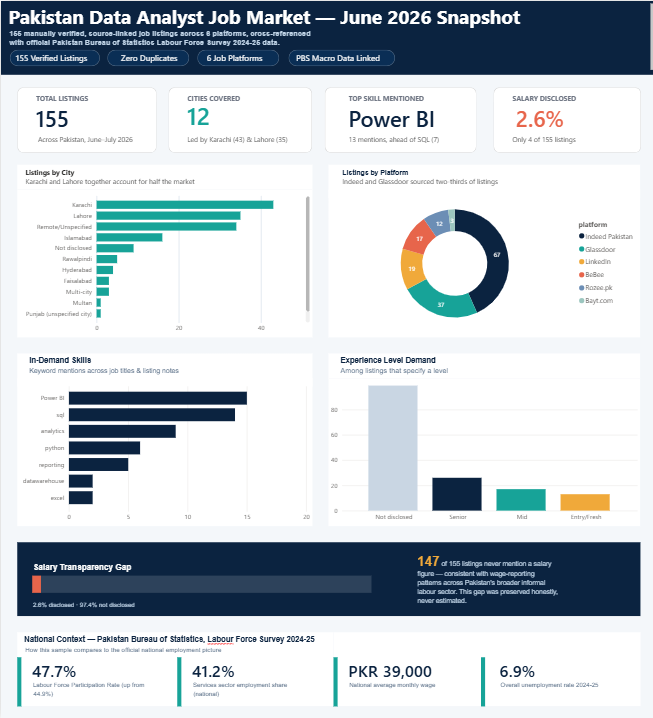

The dashboard page shown, as its layout file describes it:
{"tool":"powerbi","page":{"name":"Page 1","canvas":[1280,1400],"ordinal":0},"visuals":[{"type":"shape","box":[32,168,272,128],"z":0},{"type":"textbox","box":[32,1056,1216,144],"z":0},{"type":"textbox","box":[0,0,1280,144],"z":1000,"group":"g8"},{"type":"textbox","box":[808,1056,288,144],"z":1000,"group":"g7"},{"type":"shape","box":[16,96,176,32],"z":2000,"group":"g8"},{"type":"barChart","fields":{"Y":["City-wise Job Listing Distribution (Summary_City).Disclosed Pct Value","City-wise Job Listing Distribution (Summary_City).Disclosed Pct"]},"box":[56,1064,672,144],"z":2000,"group":"g7"},{"type":"shape","box":[208,96,160,32],"z":3000,"group":"g8"},{"type":"cardVisual","fields":{"Data":["City-wise Job Listing Distribution (Summary_City).LFPR Text"]},"box":[32,1232,312,144],"z":3000},{"type":"shape","box":[384,96,160,32],"z":4000,"group":"g8"},{"type":"cardVisual","fields":{"Data":["pk_labour_force_macro_stats_202.Services Text"]},"box":[344,1232,304,144],"z":4000,"group":"g6"},{"type":"shape","box":[560,96,208,32],"z":5000,"group":"g8"},{"type":"cardVisual","fields":{"Data":["pk_labour_force_macro_stats_202.Wage Text"]},"box":[648,1232,296,144],"z":5000,"group":"g6"},{"type":"textbox","box":[0,96,1280,32],"z":6000,"group":"g8"},{"type":"cardVisual","fields":{"Data":["pk_labour_force_macro_stats_202.Unemployment Text"]},"box":[944,1232,304,144],"z":6000,"group":"g6"},{"type":"shape","box":[632,168,296,128],"z":7000},{"type":"textbox","box":[32,1320,256,56],"z":7000,"group":"g6"},{"type":"shape","box":[960,168,288,128],"z":8000},{"type":"textbox","box":[944,1320,256,56],"z":8000,"group":"g6"},{"type":"shape","box":[328,168,280,128],"z":9000},{"type":"textbox","box":[64,176,128,32],"z":9000,"group":"g9"},{"type":"textbox","box":[648,1320,256,56],"z":9000,"group":"g6"},{"type":"textbox","box":[672,176,184,40],"z":10000},{"type":"cardVisual","fields":{"Data":["City-wise Job Listing Distribution (Summary_City).Total Listings"]},"box":[40,184,176,88],"z":10000,"group":"g9"},{"type":"textbox","box":[344,1320,256,56],"z":10000,"group":"g6"},{"type":"cardVisual","fields":{"Data":["City-wise Job Listing Distribution (Summary_City).Top Skill Name"]},"box":[648,184,248,88],"z":11000},{"type":"textbox","box":[56,256,208,40],"z":11000,"group":"g9"},{"type":"textbox","box":[32,1232,1216,48],"z":11000,"group":"g6"},{"type":"textbox","box":[672,256,208,40],"z":12000},{"type":"shape","box":[32,1280,8,96],"z":12000},{"type":"textbox","box":[360,176,144,32],"z":13000,"group":"g1"},{"type":"clusteredBarChart","fields":{"Y":["Sum(SkillsUnpivoted.Mentioned)"],"Category":["SkillsUnpivoted.Skill"]},"box":[32,736,576,288],"z":13000},{"type":"shape","box":[936,1280,8,96],"z":13000,"group":"g6"},{"type":"cardVisual","fields":{"Data":["City-wise Job Listing Distribution (Summary_City).Cities Covered"]},"box":[336,184,184,80],"z":14000,"group":"g1"},{"type":"textbox","box":[32,688,576,64],"z":14000},{"type":"shape","box":[648,1280,8,96],"z":14000,"group":"g6"},{"type":"group","id":"g1","title":"Group 2","box":[40,176,552,120],"z":15000},{"type":"textbox","box":[360,256,232,32],"z":15000,"group":"g1"},{"type":"shape","box":[344,1280,8,96],"z":15000,"group":"g6"},{"type":"group","id":"g2","title":"Group 4","box":[976,176,216,120],"z":16000},{"type":"cardVisual","fields":{"Data":["City-wise Job Listing Distribution (Summary_City).Salary Disclosed %"]},"box":[976,184,168,88],"z":17000,"group":"g2"},{"type":"group","id":"g3","title":"Group 3","box":[32,320,576,336],"z":17000},{"type":"textbox","box":[992,256,160,40],"z":18000,"group":"g2"},{"type":"group","id":"g4","title":"Group 5","box":[640,320,608,336],"z":18000},{"type":"textbox","box":[992,176,200,56],"z":19000,"group":"g2"},{"type":"group","id":"g5","title":"Group 6","box":[640,688,608,336],"z":19000},{"type":"group","id":"g6","title":"Group 9","box":[32,1232,1216,144],"z":20001},{"type":"group","id":"g7","title":"Group 7","box":[56,1056,1040,152],"z":20002},{"type":"group","id":"g8","title":"Group 8","box":[0,0,1280,144],"z":20003},{"type":"clusteredBarChart","title":"Listings by City","fields":{"Category":["Cleaned_Data.city_clean"],"Y":["CountNonNull(Cleaned_Data.job_title)"]},"box":[32,368,576,288],"z":22000,"group":"g3"},{"type":"textbox","box":[32,320,576,48],"z":23000,"group":"g3"},{"type":"donutChart","fields":{"Category":["Cleaned_Data.platform"],"Y":["CountNonNull(Cleaned_Data.job_title)"]},"box":[640,368,608,288],"z":24000,"group":"g4"},{"type":"textbox","box":[640,320,608,64],"z":25000,"group":"g4"},{"type":"clusteredColumnChart","fields":{"Category":["Cleaned_Data.experience_level"],"Y":["CountNonNull(Cleaned_Data.job_title)"]},"box":[640,736,608,288],"z":28000,"group":"g5"},{"type":"textbox","box":[640,688,608,48],"z":29000,"group":"g5"},{"type":"group","id":"g9","title":"Group 1","box":[40,176,224,120],"z":41505,"group":"g1"}]}

Visuals, with their boxes in screenshot pixels (x1, y1, x2, y2), scaled from the page's 1280x1400 canvas onto the 653x718 screenshot:
shape: bbox=[16, 86, 155, 152]
textbox: bbox=[16, 542, 637, 615]
textbox: bbox=[0, 0, 652, 74]
textbox: bbox=[412, 542, 559, 615]
shape: bbox=[8, 49, 98, 66]
barChart - City-wise Job Listing Distribution (Summary_City).Disclosed Pct Value x City-wise Job Listing Distribution (Summary_City).Disclosed Pct: bbox=[29, 546, 371, 620]
shape: bbox=[106, 49, 188, 66]
cardVisual - City-wise Job Listing Distribution (Summary_City).LFPR Text: bbox=[16, 632, 175, 706]
shape: bbox=[196, 49, 278, 66]
cardVisual - pk_labour_force_macro_stats_202.Services Text: bbox=[175, 632, 331, 706]
shape: bbox=[286, 49, 392, 66]
cardVisual - pk_labour_force_macro_stats_202.Wage Text: bbox=[331, 632, 482, 706]
textbox: bbox=[0, 49, 652, 66]
cardVisual - pk_labour_force_macro_stats_202.Unemployment Text: bbox=[482, 632, 637, 706]
shape: bbox=[322, 86, 473, 152]
textbox: bbox=[16, 677, 147, 706]
shape: bbox=[490, 86, 637, 152]
textbox: bbox=[482, 677, 612, 706]
shape: bbox=[167, 86, 310, 152]
textbox: bbox=[33, 90, 98, 107]
textbox: bbox=[331, 677, 461, 706]
textbox: bbox=[343, 90, 437, 111]
cardVisual - City-wise Job Listing Distribution (Summary_City).Total Listings: bbox=[20, 94, 110, 139]
textbox: bbox=[175, 677, 306, 706]
cardVisual - City-wise Job Listing Distribution (Summary_City).Top Skill Name: bbox=[331, 94, 457, 139]
textbox: bbox=[29, 131, 135, 152]
textbox: bbox=[16, 632, 637, 656]
textbox: bbox=[343, 131, 449, 152]
shape: bbox=[16, 656, 20, 706]
textbox: bbox=[184, 90, 257, 107]
clusteredBarChart - Sum(SkillsUnpivoted.Mentioned) x SkillsUnpivoted.Skill: bbox=[16, 377, 310, 525]
shape: bbox=[478, 656, 482, 706]
cardVisual - City-wise Job Listing Distribution (Summary_City).Cities Covered: bbox=[171, 94, 265, 135]
textbox: bbox=[16, 353, 310, 386]
shape: bbox=[331, 656, 335, 706]
"Group 2" group: bbox=[20, 90, 302, 152]
textbox: bbox=[184, 131, 302, 148]
shape: bbox=[175, 656, 180, 706]
"Group 4" group: bbox=[498, 90, 608, 152]
cardVisual - City-wise Job Listing Distribution (Summary_City).Salary Disclosed %: bbox=[498, 94, 584, 139]
"Group 3" group: bbox=[16, 164, 310, 336]
textbox: bbox=[506, 131, 588, 152]
"Group 5" group: bbox=[326, 164, 637, 336]
textbox: bbox=[506, 90, 608, 119]
"Group 6" group: bbox=[326, 353, 637, 525]
"Group 9" group: bbox=[16, 632, 637, 706]
"Group 7" group: bbox=[29, 542, 559, 620]
"Group 8" group: bbox=[0, 0, 652, 74]
"Listings by City" clusteredBarChart: bbox=[16, 189, 310, 336]
textbox: bbox=[16, 164, 310, 189]
donutChart - Cleaned_Data.platform x CountNonNull(Cleaned_Data.job_title): bbox=[326, 189, 637, 336]
textbox: bbox=[326, 164, 637, 197]
clusteredColumnChart - Cleaned_Data.experience_level x CountNonNull(Cleaned_Data.job_title): bbox=[326, 377, 637, 525]
textbox: bbox=[326, 353, 637, 377]
"Group 1" group: bbox=[20, 90, 135, 152]
